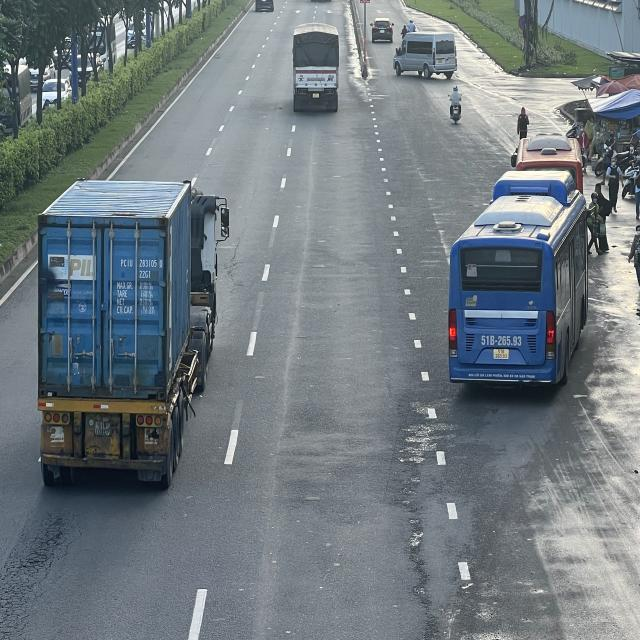car: (372, 17, 395, 43)
coach: (450, 166, 591, 389)
container: (39, 176, 230, 486)
truck: (292, 25, 338, 114)
van: (393, 22, 457, 80)
